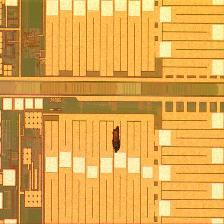PARTICLE: (109, 123, 125, 156)
